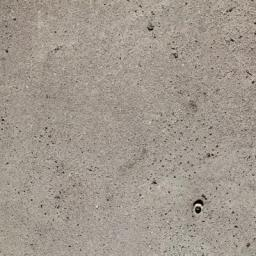FOD: (188, 199, 210, 218)
